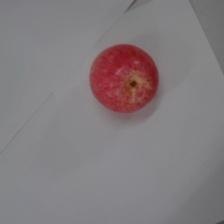red: (86, 39, 162, 118)
